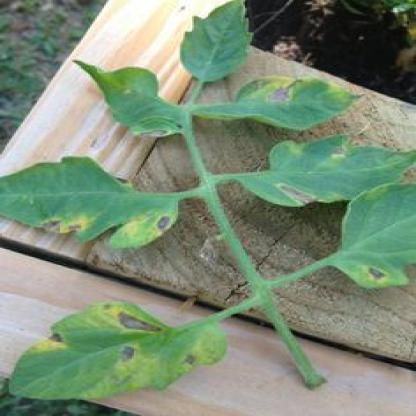tomato early blight leaf: (16, 301, 224, 400), (11, 162, 185, 249), (231, 134, 414, 208), (65, 48, 185, 143), (203, 78, 370, 130)
tomato leaf: (173, 1, 256, 82)
